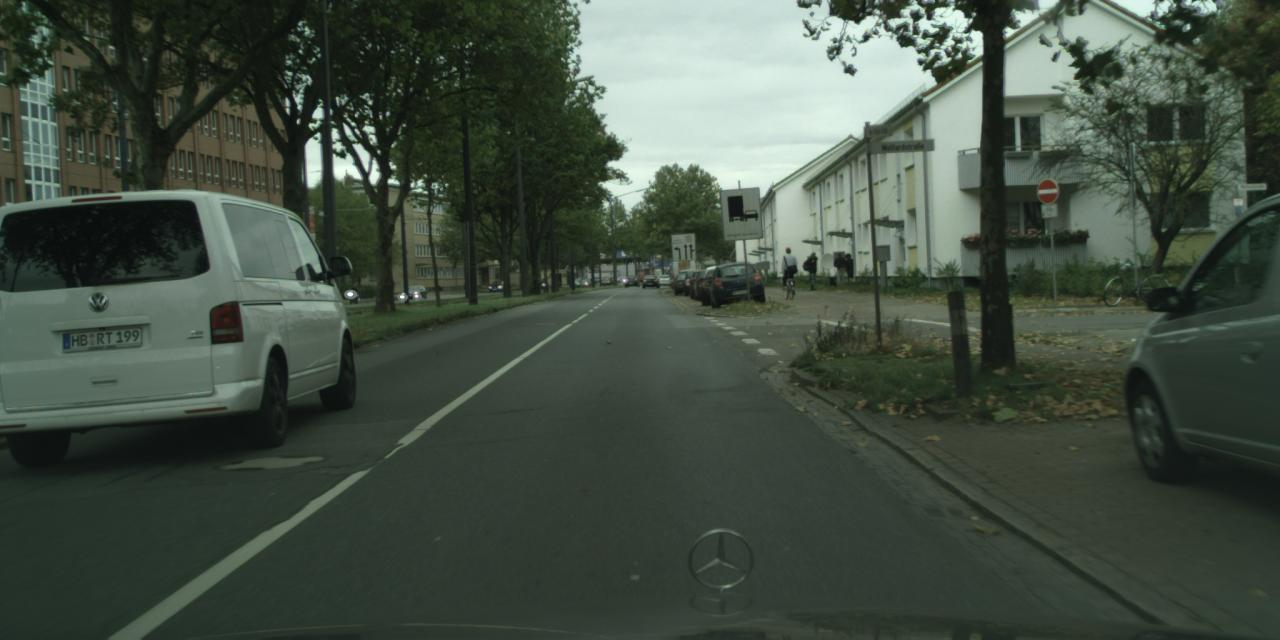ped: (779, 248, 797, 290), (804, 251, 820, 290), (834, 253, 854, 284), (352, 286, 358, 302)
